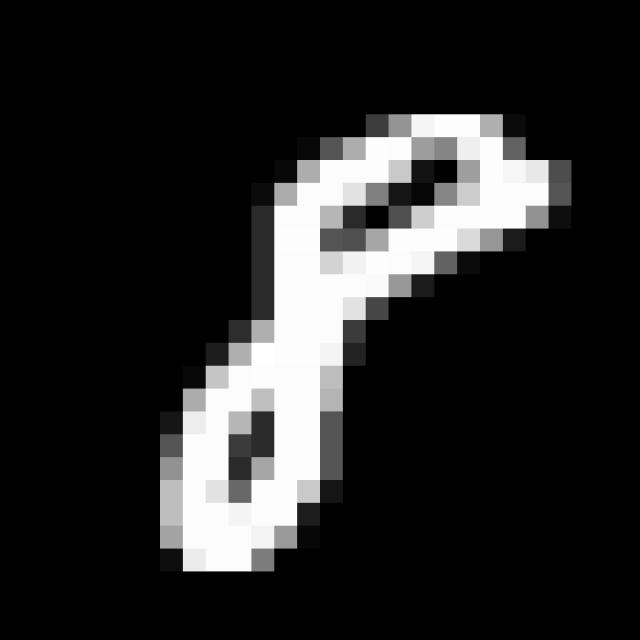eight -8-: (155, 107, 565, 583)
